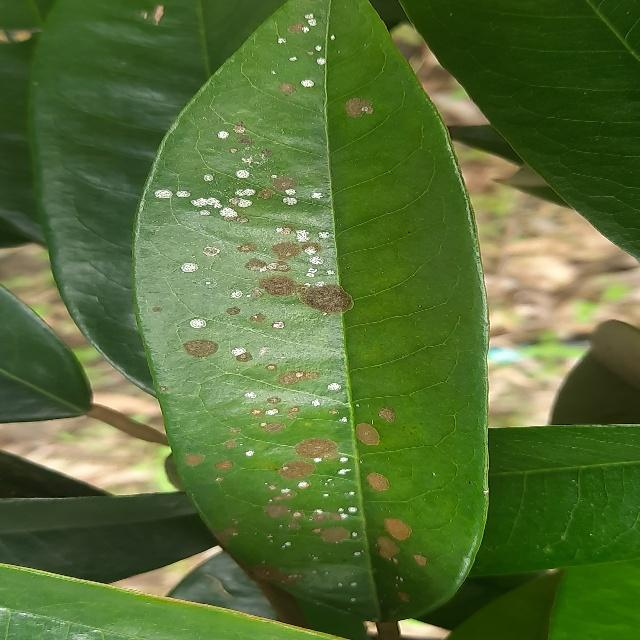Algal Leaf Spot: (121, 0, 501, 635)
